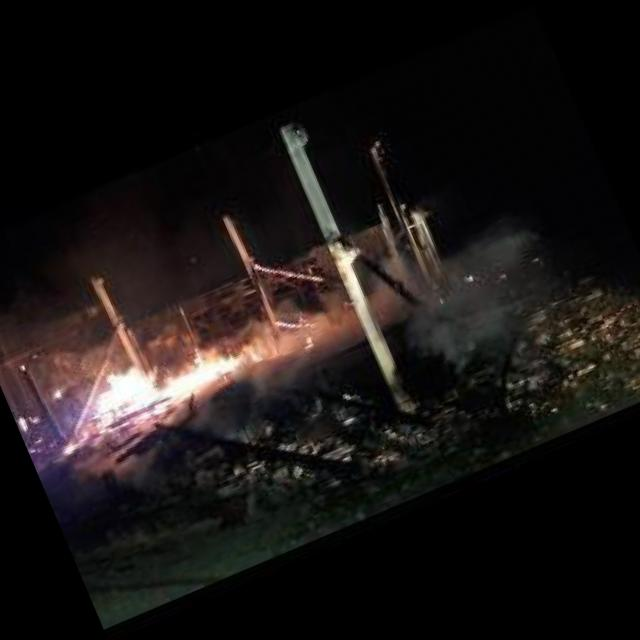fire: (80, 314, 264, 434), (56, 432, 84, 454)
